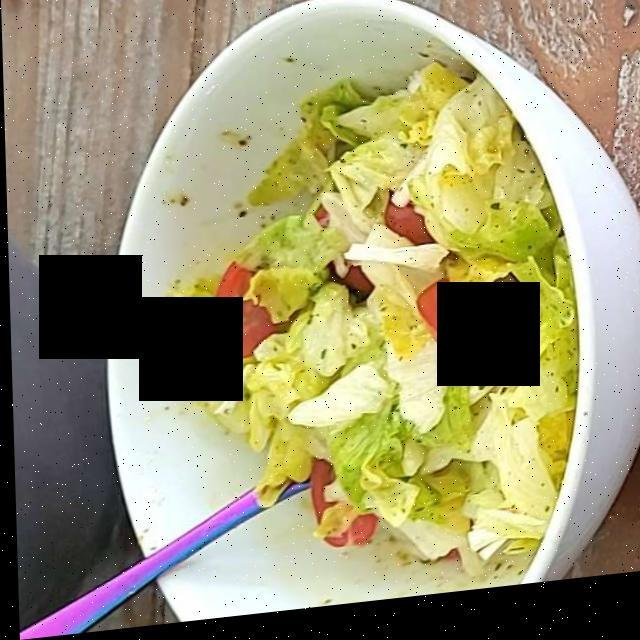salad: (184, 84, 566, 580)
tomato: (210, 210, 537, 553)
